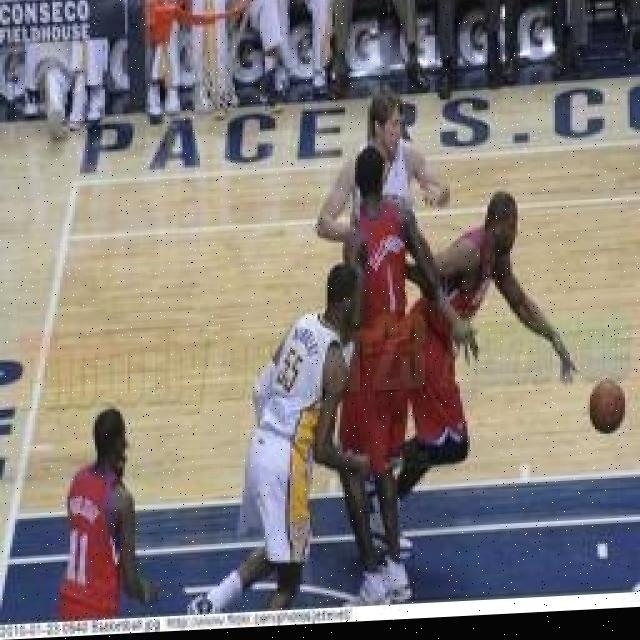basketball: (585, 376, 627, 439)
hoop: (171, 0, 261, 123)
